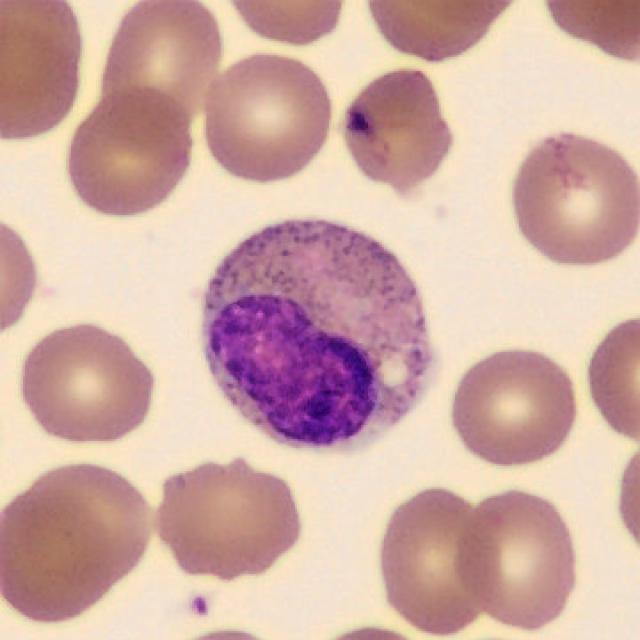Metamielocito: (199, 220, 432, 453)
